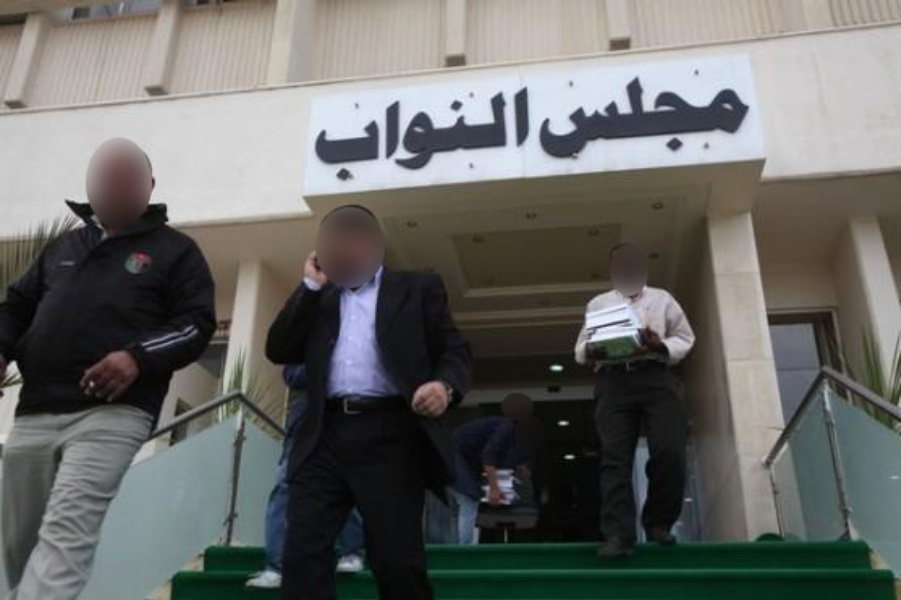text: (561, 51, 576, 162), (577, 51, 592, 162), (593, 51, 608, 162), (609, 51, 624, 162), (625, 51, 640, 162), (641, 51, 656, 162), (657, 51, 672, 162), (673, 51, 688, 162), (689, 51, 704, 162), (705, 51, 720, 162), (721, 51, 736, 162), (321, 78, 336, 186), (337, 78, 352, 186), (353, 78, 368, 186), (369, 78, 384, 186), (385, 78, 400, 186), (401, 78, 416, 186), (417, 78, 432, 186), (433, 78, 448, 186), (449, 78, 464, 186), (465, 78, 480, 186), (481, 78, 496, 186), (497, 78, 512, 186), (513, 78, 528, 186), (737, 51, 751, 162), (547, 51, 560, 162), (311, 78, 320, 186), (529, 78, 534, 186)
